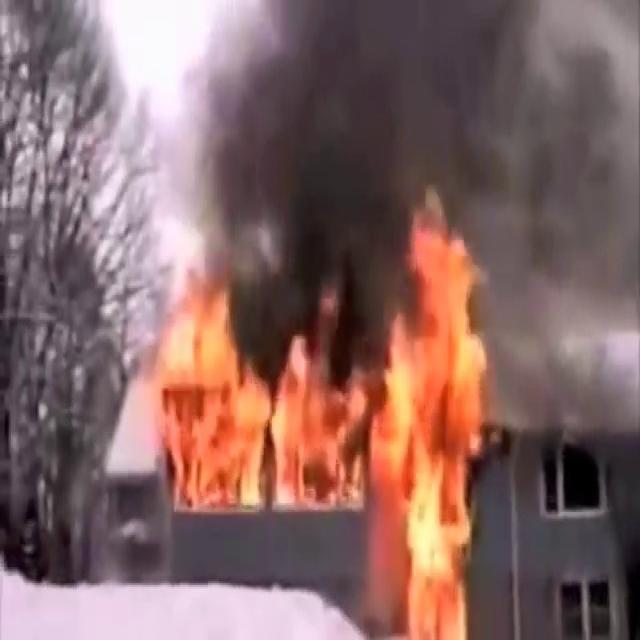Fire: (362, 189, 490, 640), (152, 266, 364, 514)
Smoke: (186, 0, 635, 297)
